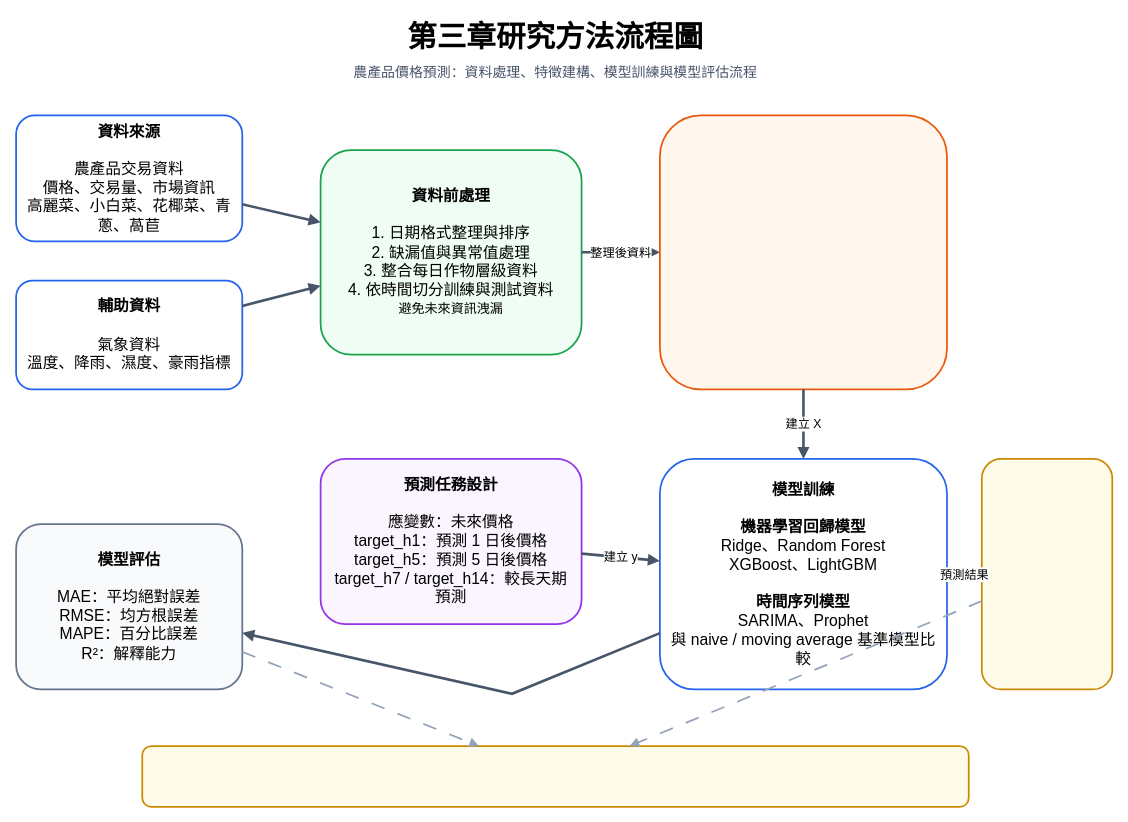
The diagram is 1128 pixels wide and 822 high, and some of its shapes have lost their labels. The centre of each missing label's shape, as x and y in pixels:
特徵建構 價格特徵 落後期價格、移動平均、移動標準差 交易特徵 交易量、交易筆數、品項數、市場數 時間與氣象特徵 月份週期、溫度、降雨、濕度: (803,252)
研究重點：以歷史交易資料、時間特徵與氣象資料建立價格預測模型 比較不同模型於 1、5、7、14 日預測天期下之表現，作為短期價格趨勢與決策輔助參考: (555,776)
結果應用 模型比較 短期價格趨勢 價格風險參考 輔助決策: (1046,574)
